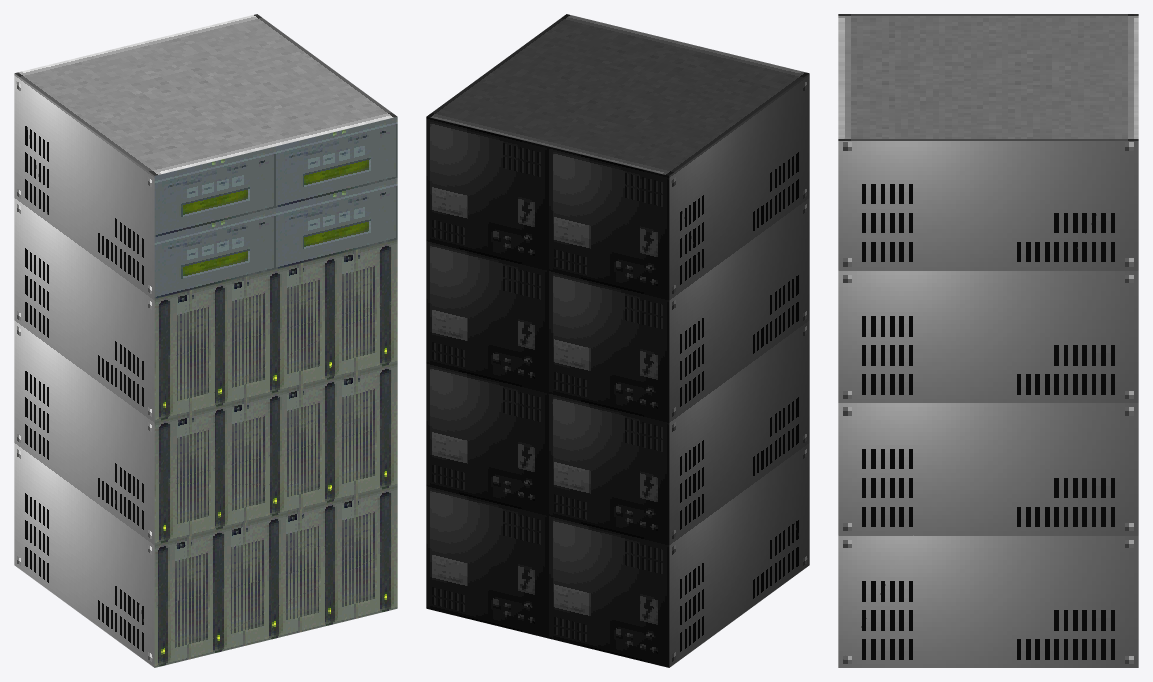
File: Pmainframe2Z.obj
3 views of the same model, side by side, from view 1: azimuth 30°, elevation 25°; view 2: azimuth 150°, elevation 25°; view 3: azimuth 270°, elevation 25° (orthographic). The views are drawn at different scales.
Size of the model in its own units: 934 by 1808 by 934.
7 materials, 7 textured.
